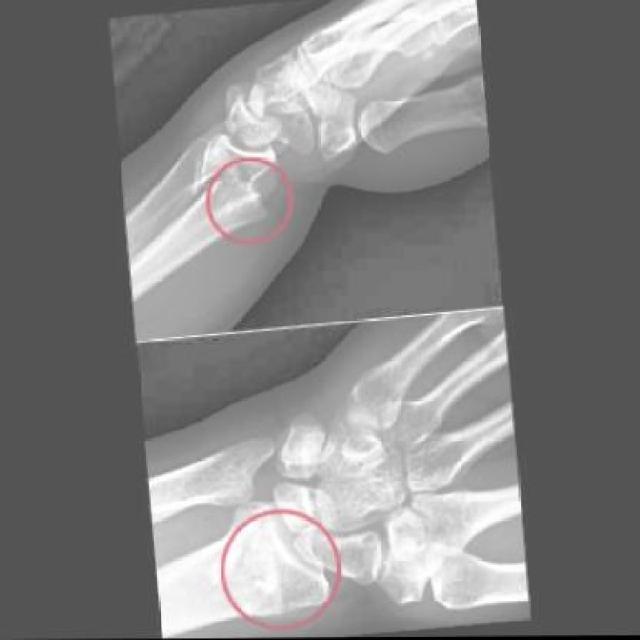Fracture: (236, 523, 310, 624), (225, 165, 284, 232)
